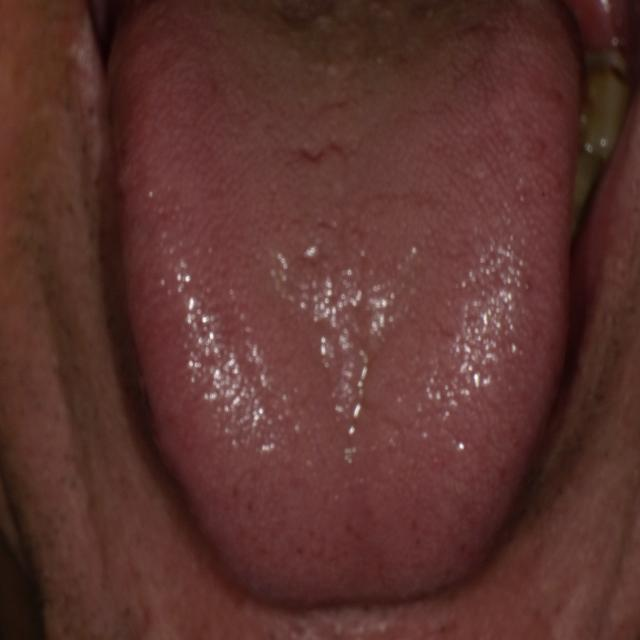hongshe: (113, 10, 574, 602)
huangtaishe: (112, 10, 573, 602)
huataishe: (175, 262, 516, 467)
